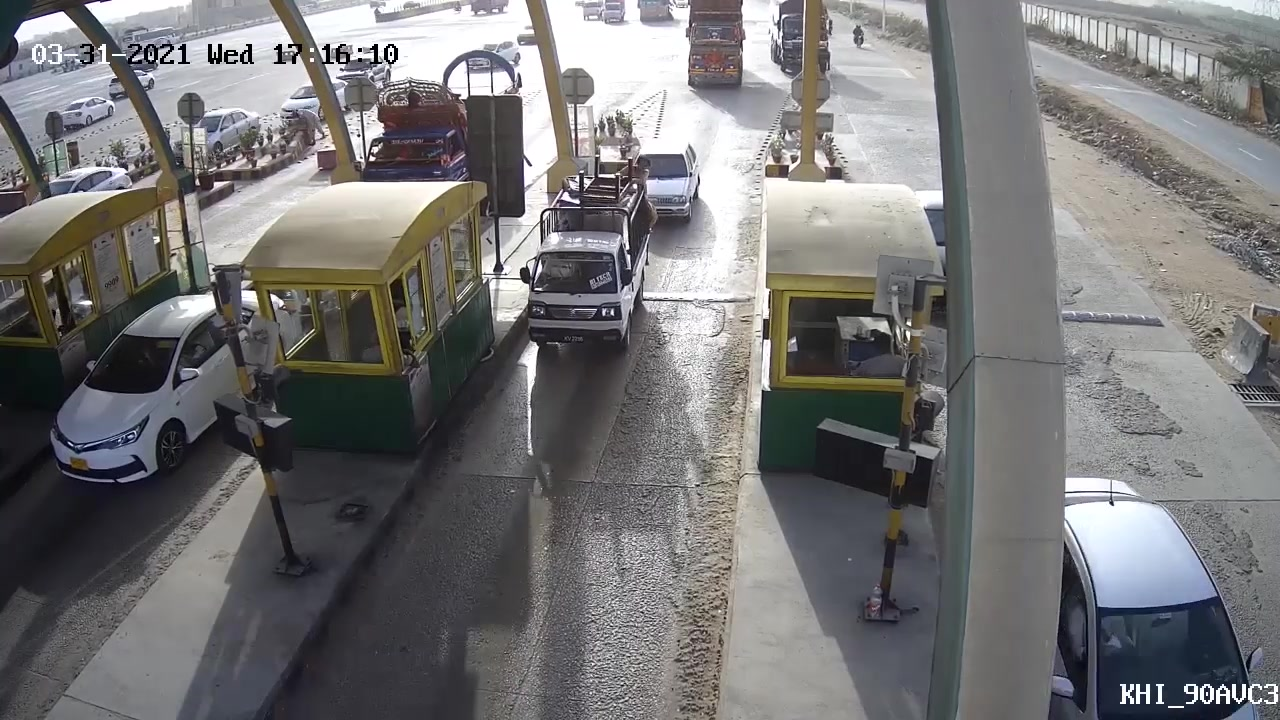F1: (514, 182, 659, 364)
